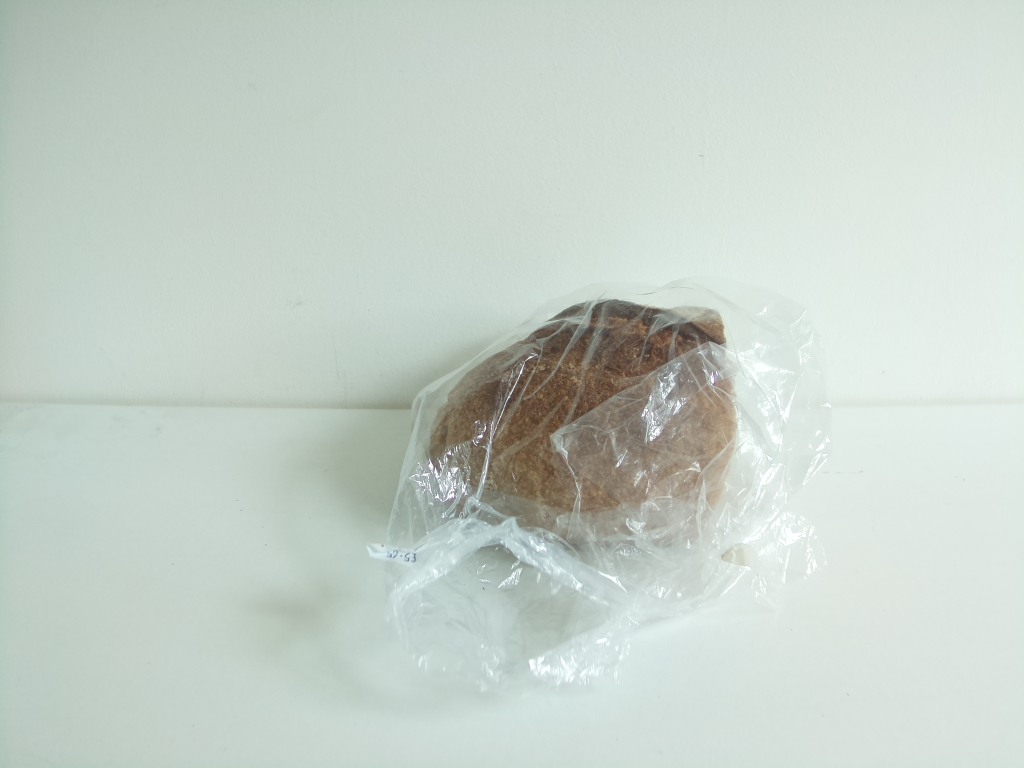bread: (426, 298, 740, 552)
